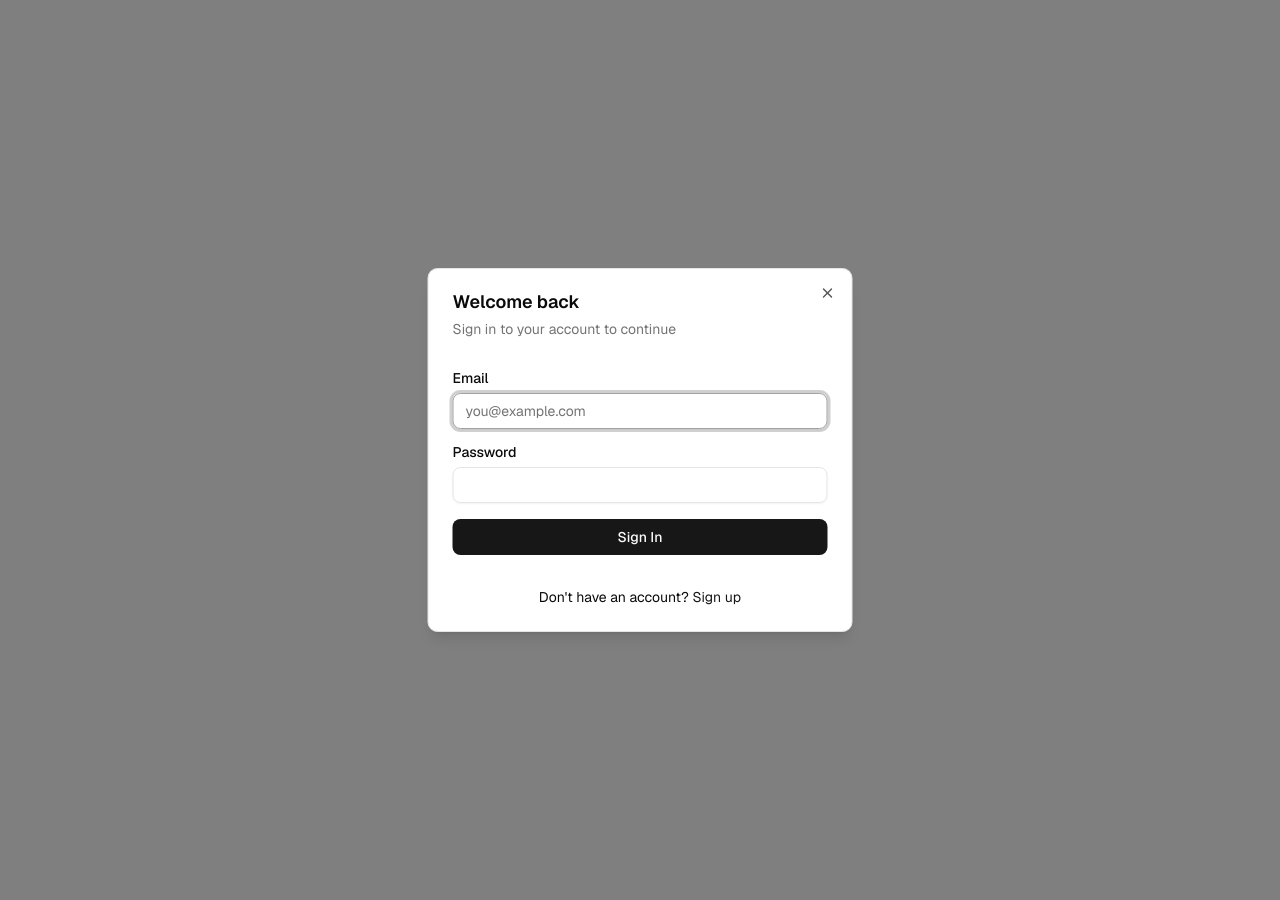
Test: switches to sign up form when Sign up link is clicked
Click the button "Sign up": [717, 597] box [692,587,741,607]
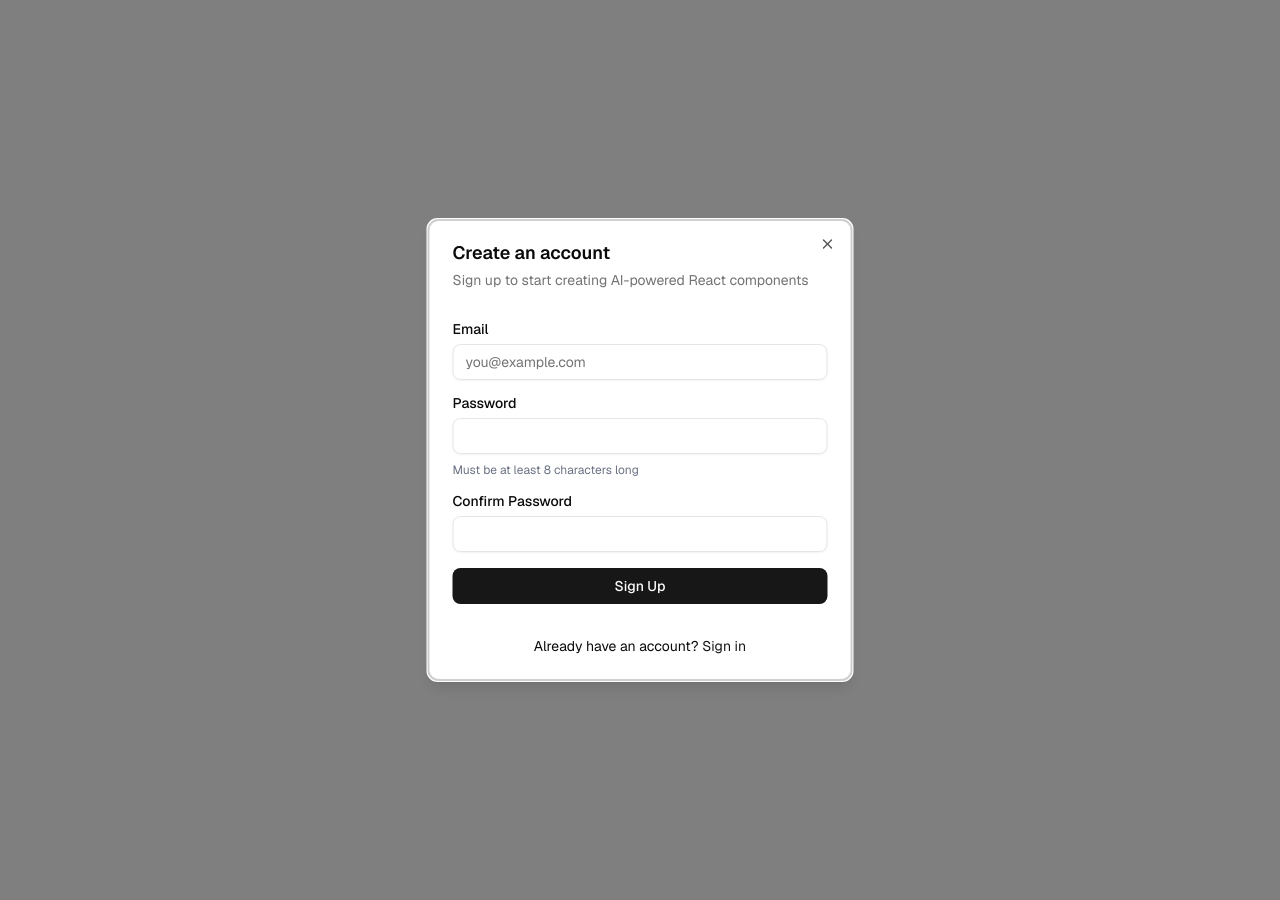
expect the heading "Create an account" is shown: met, box [452,241,610,264]
